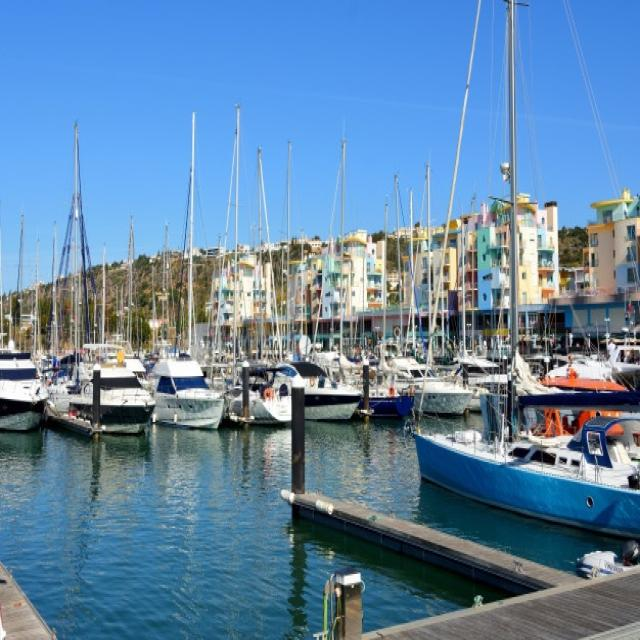passenger ship: (75, 351, 162, 443), (150, 358, 222, 442), (1, 350, 65, 431), (300, 365, 361, 448), (232, 354, 298, 428)
